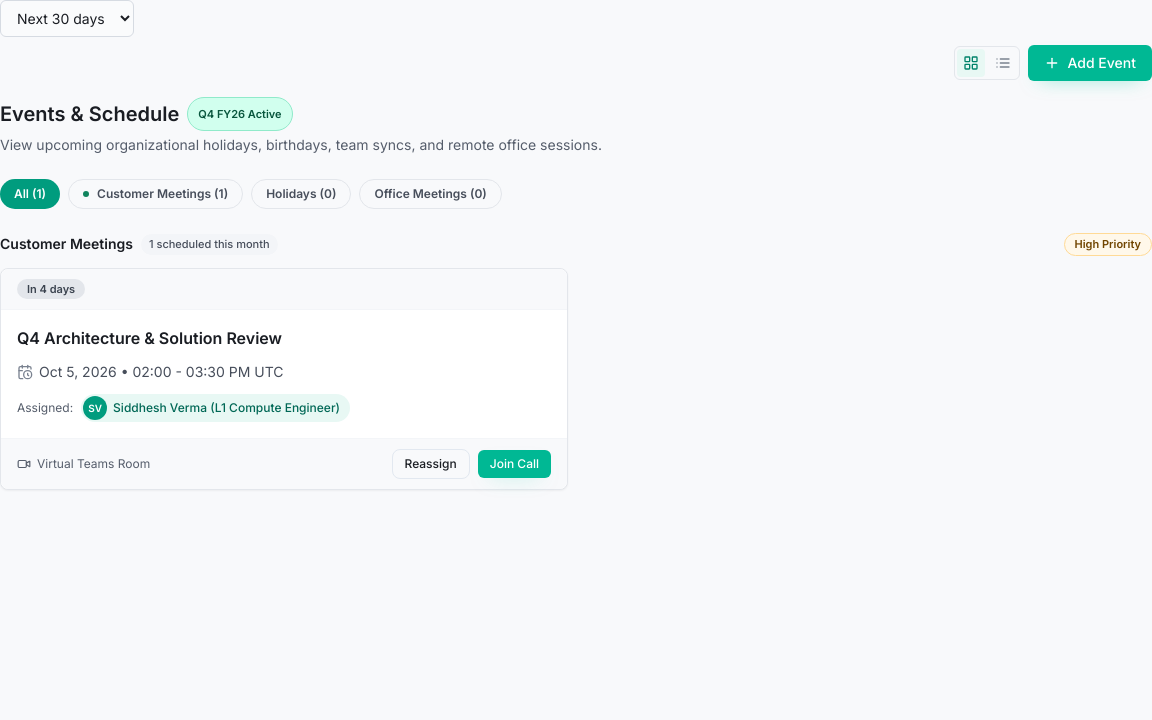
Test case: Customer Meeting cards › opens a floating popover over the card and marks the current engineer
This screenshot has width=1152, height=720.
Step 1. Click the button "Reassign" → (431, 464), box [392,449,470,479]
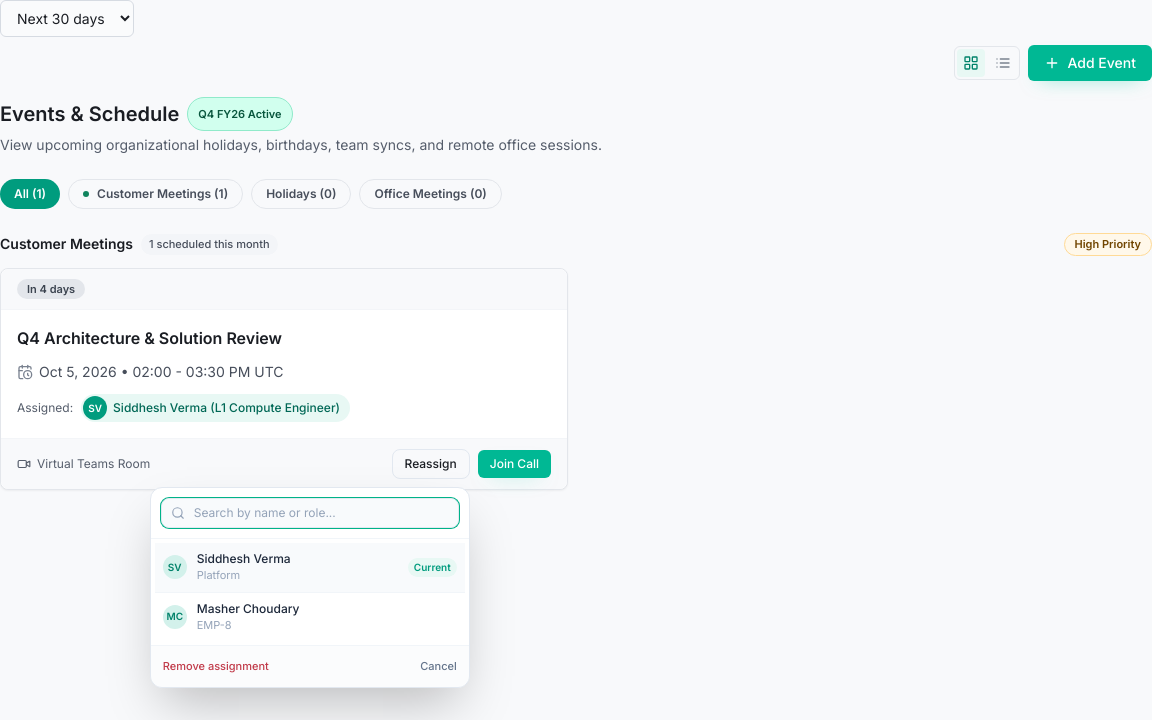
Check: the dialog named "reassign engineer" is shown, box [150,487,470,688]
Check: the text "Current" is shown, box [408,558,457,577]
